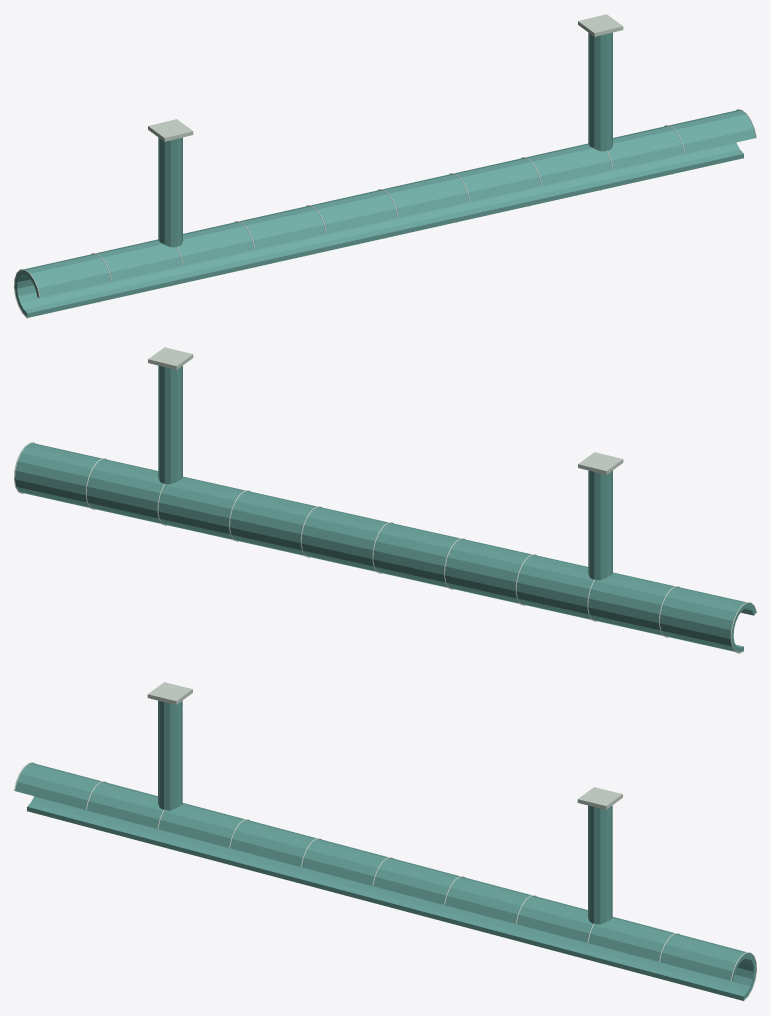
Rendered from dtss-section-low.glb.
The picture shows the model from 3 angles, top to bottom: view 1: azimuth 30°, elevation 25°; view 2: azimuth 150°, elevation 25°; view 3: azimuth 330°, elevation 25°; orthographic projection.
Visible parts, largest first — view 1: dtss-section-low, representative-shaft-30, representative-shaft--30, shaft-cap-30, shaft-cap--30; view 2: dtss-section-low, representative-shaft-30, representative-shaft--30, shaft-cap--30, shaft-cap-30; view 3: dtss-section-low, representative-shaft-30, representative-shaft--30, shaft-cap-30, shaft-cap--30.
Part boxes in pixels (x1,y1,x2,y2): dtss-section-low: [14, 110, 755, 317]; representative-shaft-30: [588, 32, 612, 151]; representative-shaft--30: [158, 137, 182, 247]; shaft-cap-30: [578, 14, 623, 36]; shaft-cap--30: [148, 119, 193, 141]; dtss-section-low: [15, 443, 755, 652]; representative-shaft-30: [158, 365, 182, 484]; representative-shaft--30: [588, 470, 612, 580]; shaft-cap--30: [578, 452, 623, 474]; shaft-cap-30: [148, 347, 193, 369]; dtss-section-low: [15, 763, 756, 1000]; representative-shaft-30: [588, 805, 612, 924]; representative-shaft--30: [158, 700, 182, 810]; shaft-cap-30: [577, 787, 622, 809]; shaft-cap--30: [147, 682, 192, 704].
Bounding box in the file's own units: 100 × 22.71 × 6.29.
